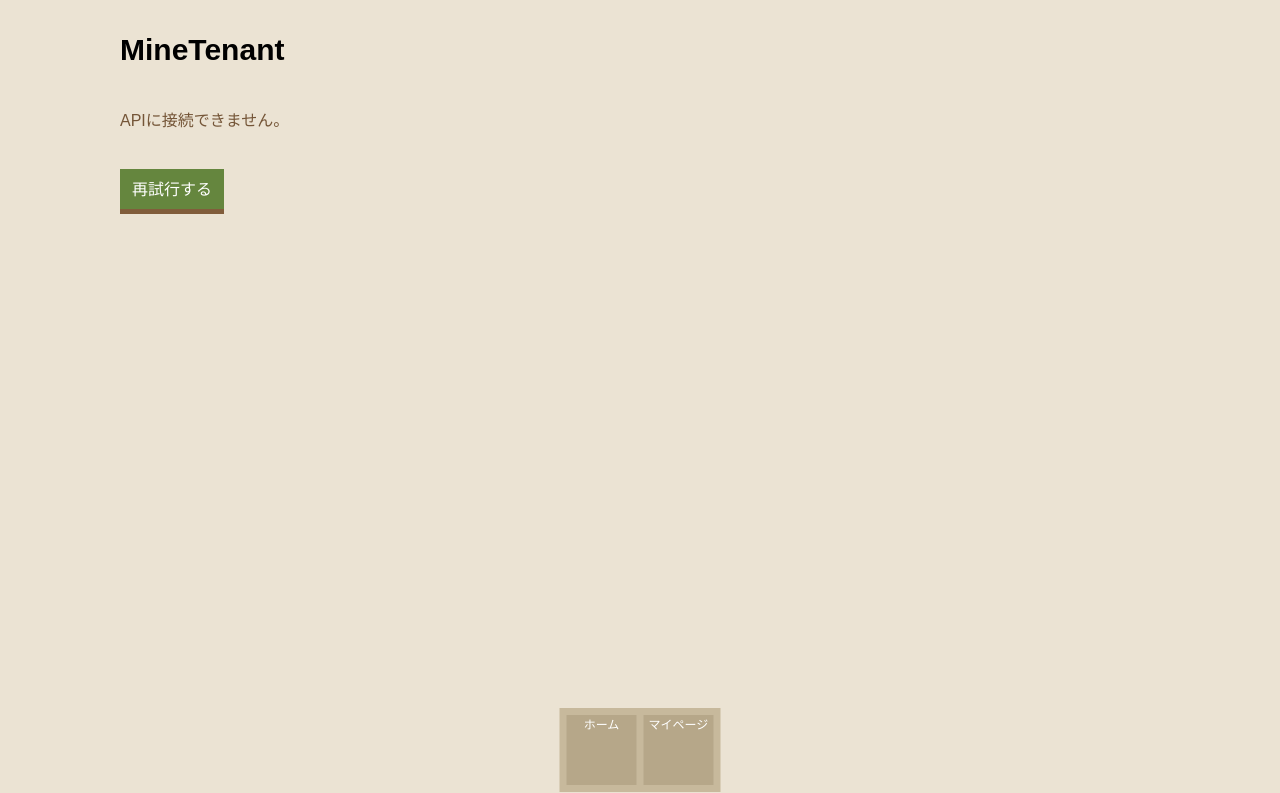
Test: MineTenant routes › セッション復元の通信失敗を未ログイン扱いにせず再試行できる
Expected: the message reads "APIに接続できません。", [120, 112, 289, 129]
Click the button "再試行する" at (172, 189), box [120, 169, 224, 209]
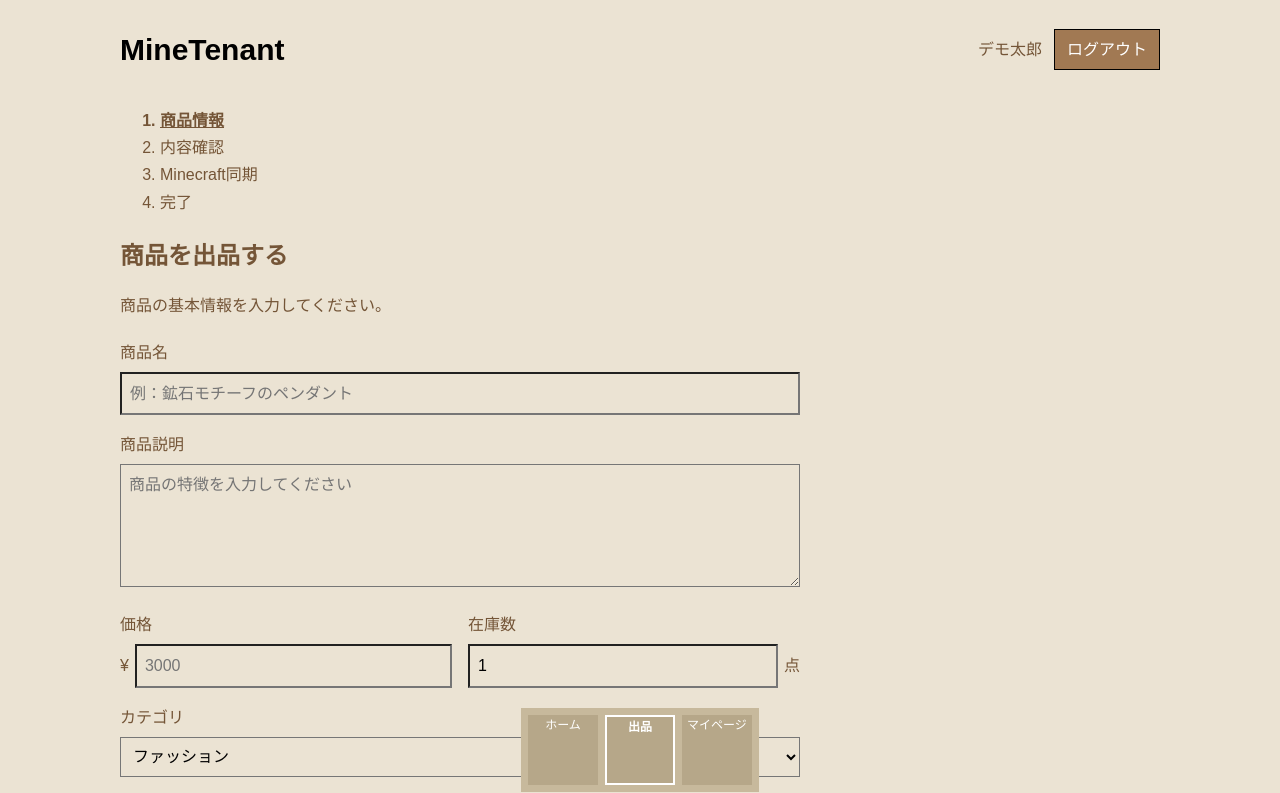
Now the field labelled "商品名" is shown, box [120, 372, 800, 415]
